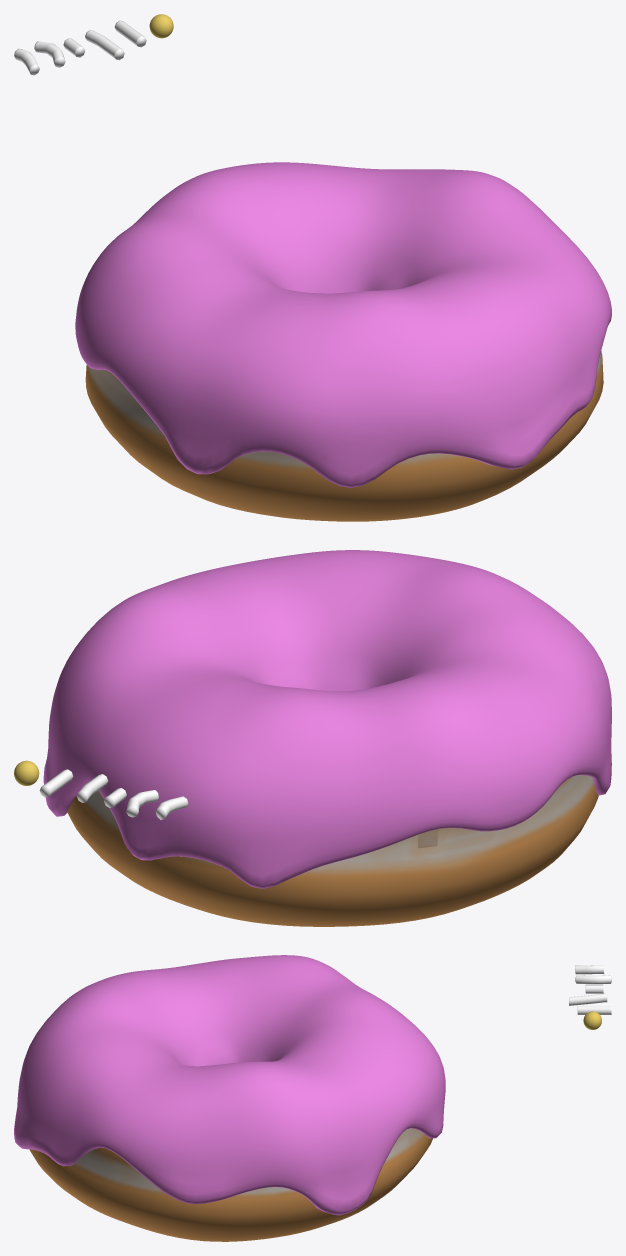
The model's file is donut.glb.
3 renders of one model, top to bottom at view 1: azimuth 30°, elevation 25°; view 2: azimuth 150°, elevation 25°; view 3: azimuth 270°, elevation 25°, orthographic. The views are drawn at different scales.
Parts seen in each view (by area): view 1: Icing, Donut; view 2: Icing, Donut, Sphere; view 3: Icing, Donut.
Part boxes in pixels (bbox=[...]): Icing: bbox=[75, 162, 611, 487]; Donut: bbox=[85, 351, 603, 521]; Icing: bbox=[43, 550, 611, 888]; Donut: bbox=[67, 775, 598, 926]; Sphere: bbox=[14, 760, 39, 785]; Icing: bbox=[14, 955, 445, 1215]; Donut: bbox=[30, 1128, 432, 1241].
Size of what is drawn, in the model's own units: 0.0982 by 0.0506 by 0.1425.
Materials: 4 (1 with a texture image).
